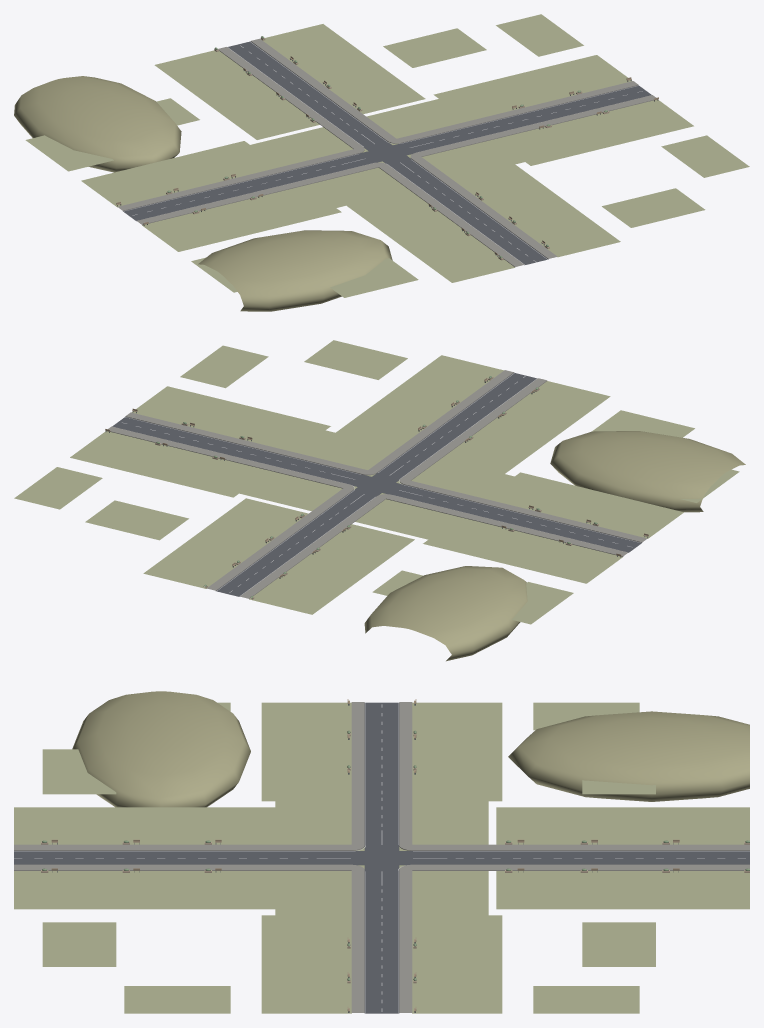
The picture shows the model from 3 angles, top to bottom: view 1: azimuth 30°, elevation 25°; view 2: azimuth 150°, elevation 25°; view 3: azimuth 270°, elevation 25°; orthographic projection. The views are drawn at different scales.
Visible parts, largest first — view 1: static; view 2: static; view 3: static.
Boxes of the visible parts, bbox=[...] form: static: bbox=[14, 14, 749, 311]; static: bbox=[14, 340, 745, 661]; static: bbox=[14, 691, 749, 1013].
Size of what is drawn, in the model's own units: 180 by 14.08 by 180.
